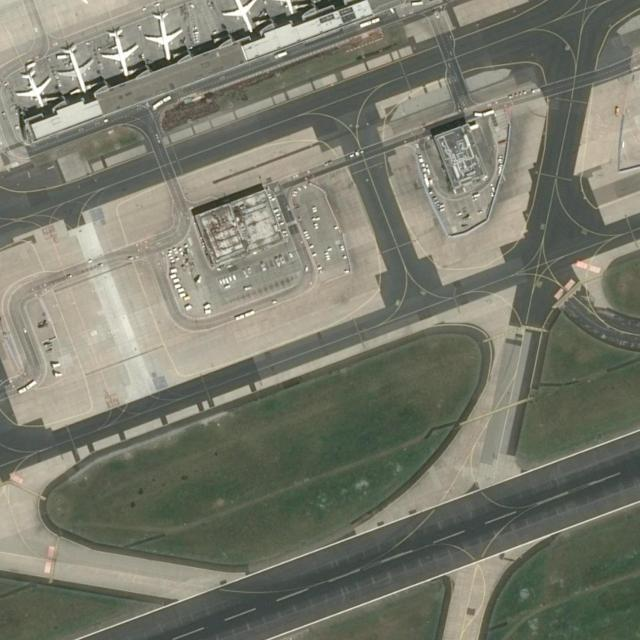Aircraft: (146, 8, 186, 62), (57, 42, 98, 93), (101, 36, 141, 82), (17, 63, 52, 110), (215, 0, 257, 32)
